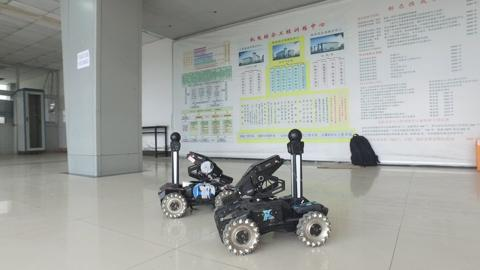chariot: (209, 122, 336, 258), (150, 131, 237, 222)
